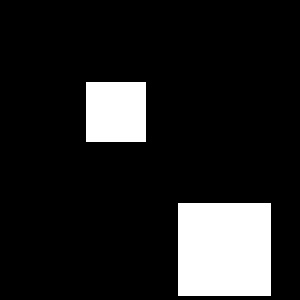circle: (178, 203, 271, 296), (86, 82, 146, 142)
